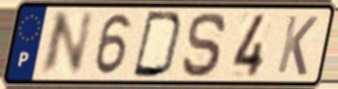4: (229, 11, 267, 79)
6: (93, 11, 133, 77)
D: (130, 9, 186, 80)
K: (274, 13, 321, 78)
N: (36, 9, 97, 79)
S: (179, 10, 230, 79)
